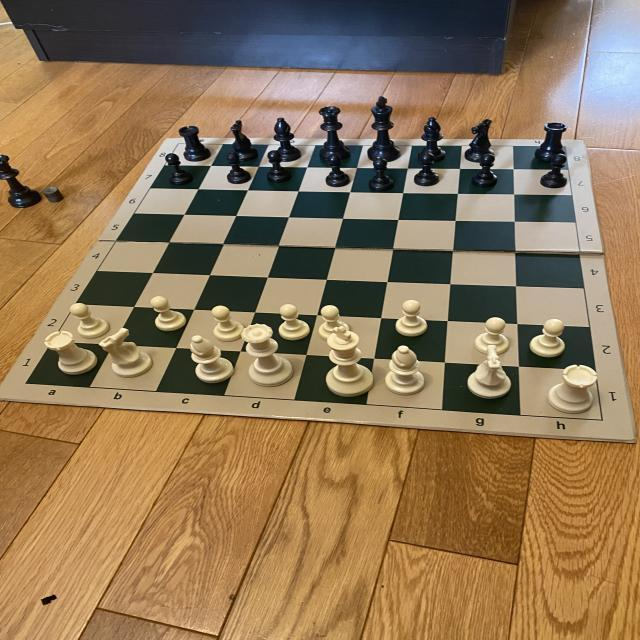chess-table-corners: (592, 413, 610, 425), (558, 140, 574, 152), (20, 379, 34, 390), (173, 138, 183, 148)
